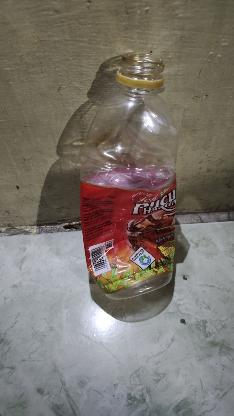Plastic Bottle: (80, 52, 180, 300)
